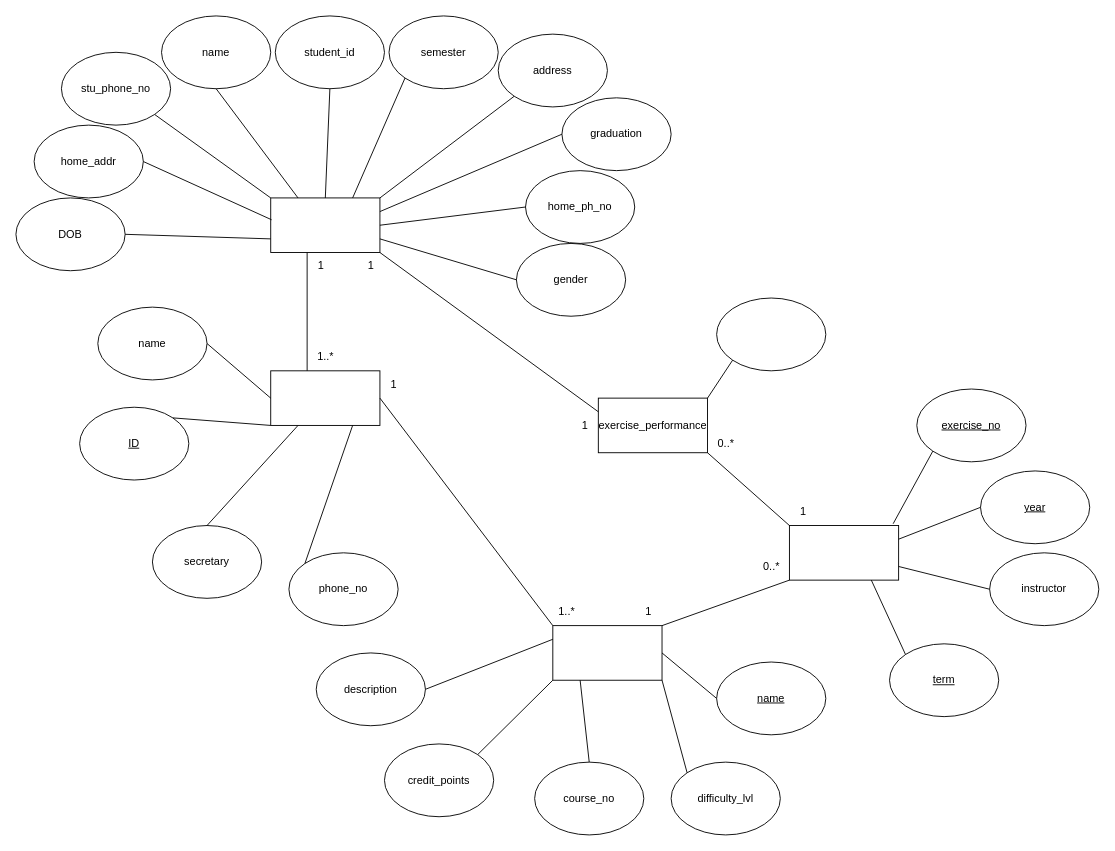
Image size: 1115x851. Some labels were removed from this diagram. Here are the shapes that lost their labels. From the top down, the box of each, then its label:
(270, 197, 380, 253): student
(716, 297, 826, 371): grade
(270, 370, 380, 425): faculty
(789, 525, 899, 580): exercise
(552, 625, 662, 680): course
